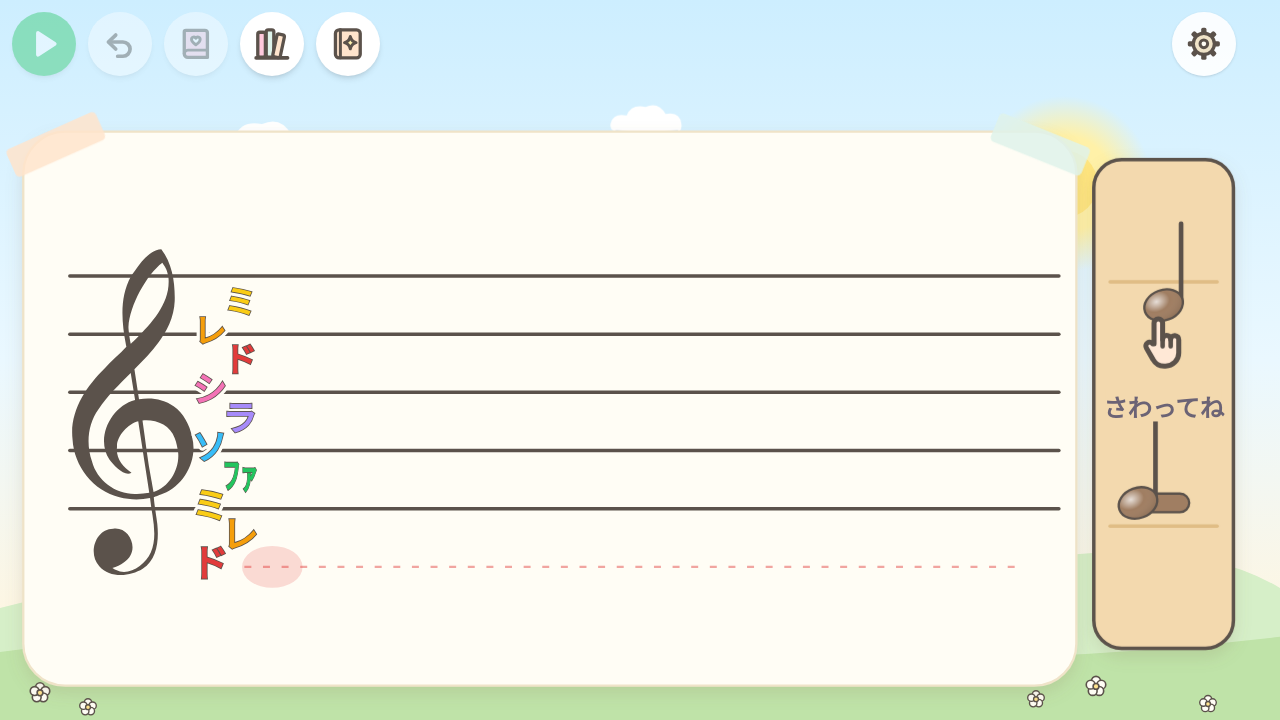
Scenario: 再生中は ▶ が ⏹ とめる になり、曲を消さずに止める（#102）
Click the button named "ほんだな": (272, 44) [240,12,304,76]
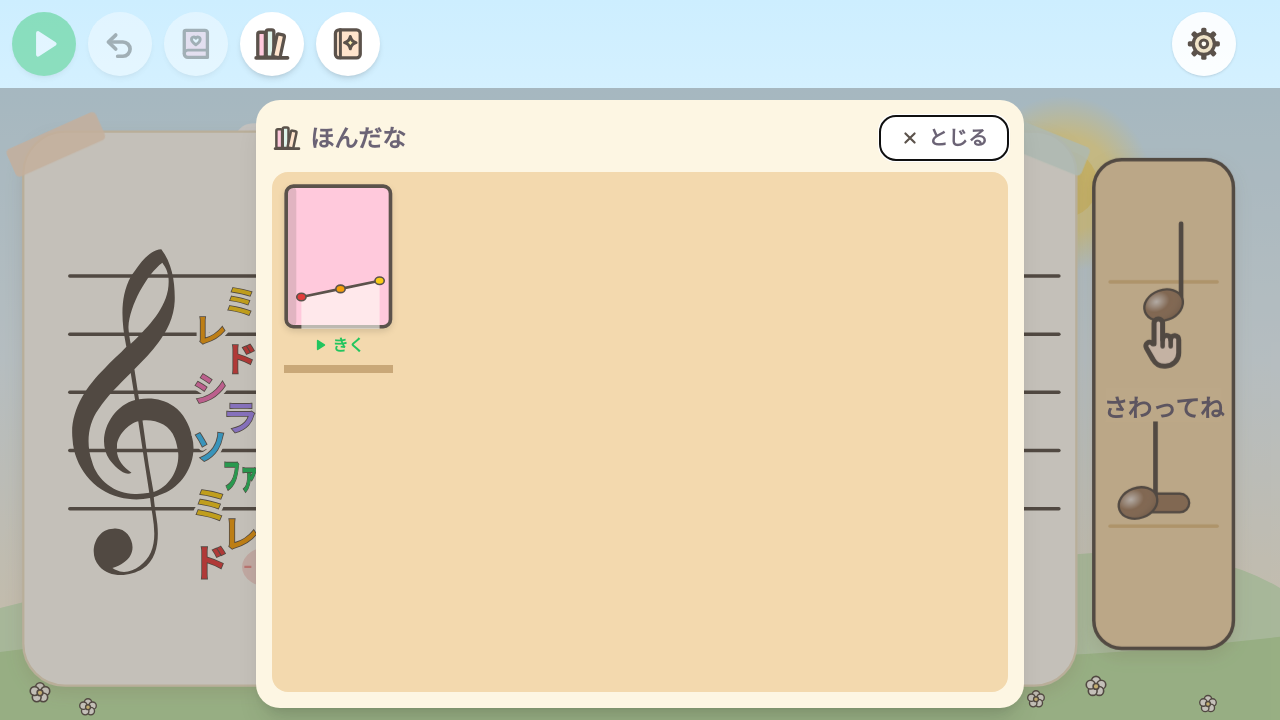
Click the button "きく": (338, 270) [284,184,393,357]
Wait 1 ms
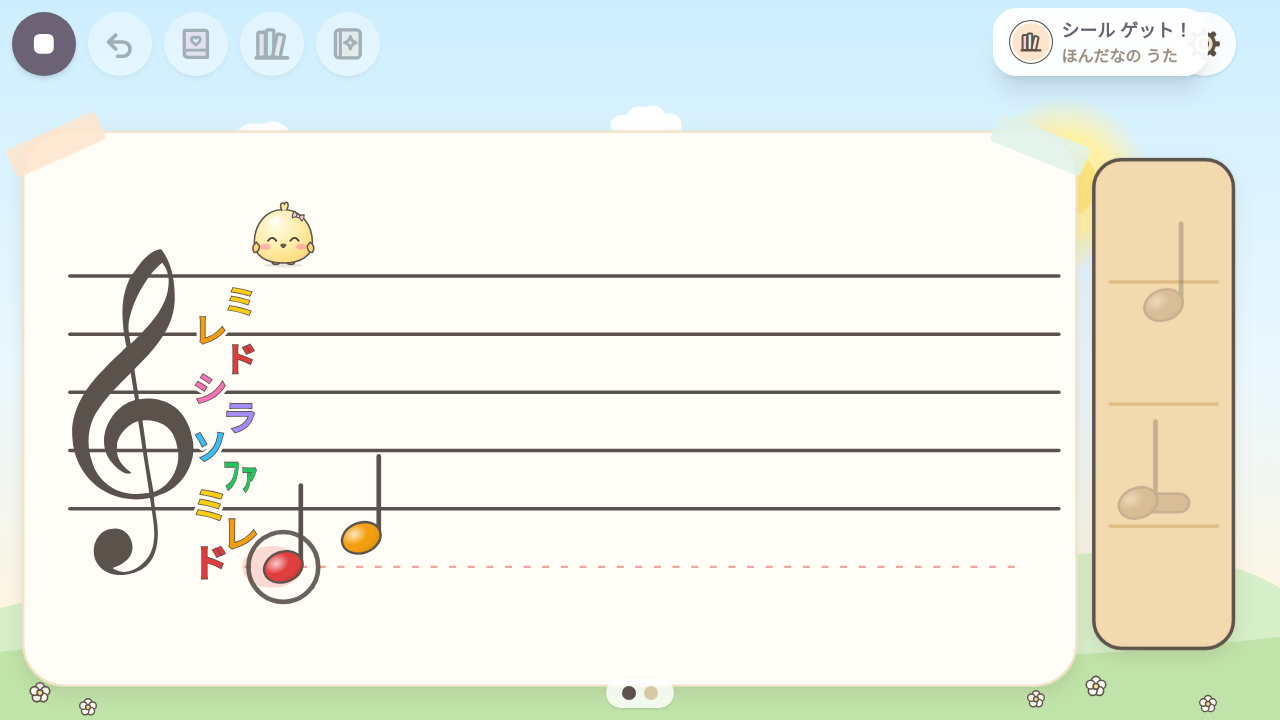
# ▶ の連打（押した直後の2回目）では止めない
Click the button named "とめる": (44, 44) [12,12,76,76]
Wait 700 ms
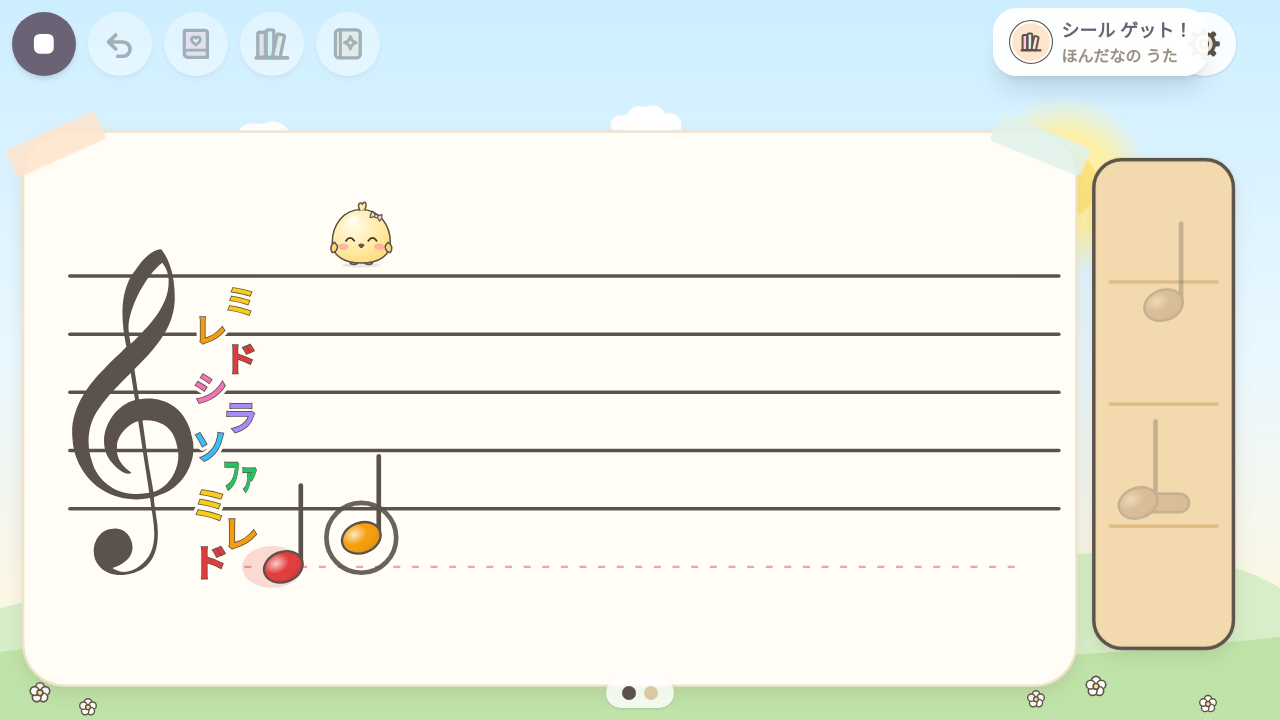
Click the button named "とめる": (44, 44) [12,12,76,76]
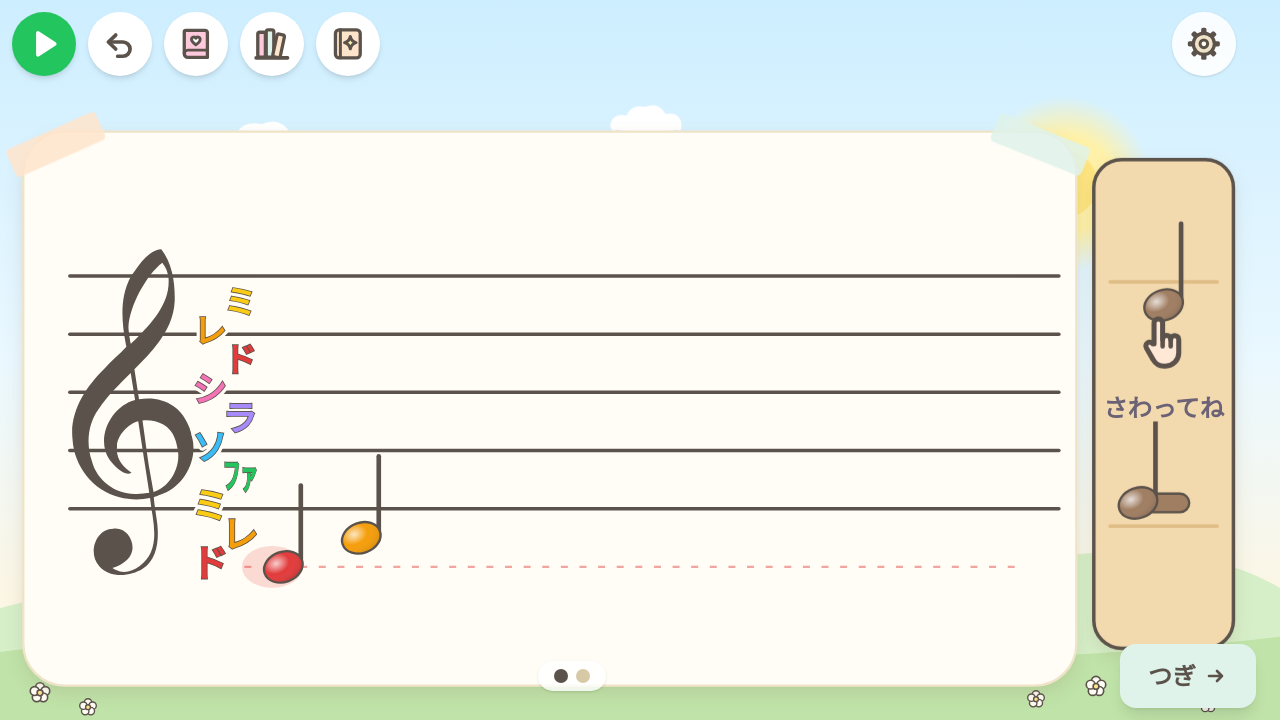
Expected: the element named "ぜんぶで2ページ" is shown, [538,661,606,691]
Expected: the button named "さいせい" is shown, [12,12,76,76]
